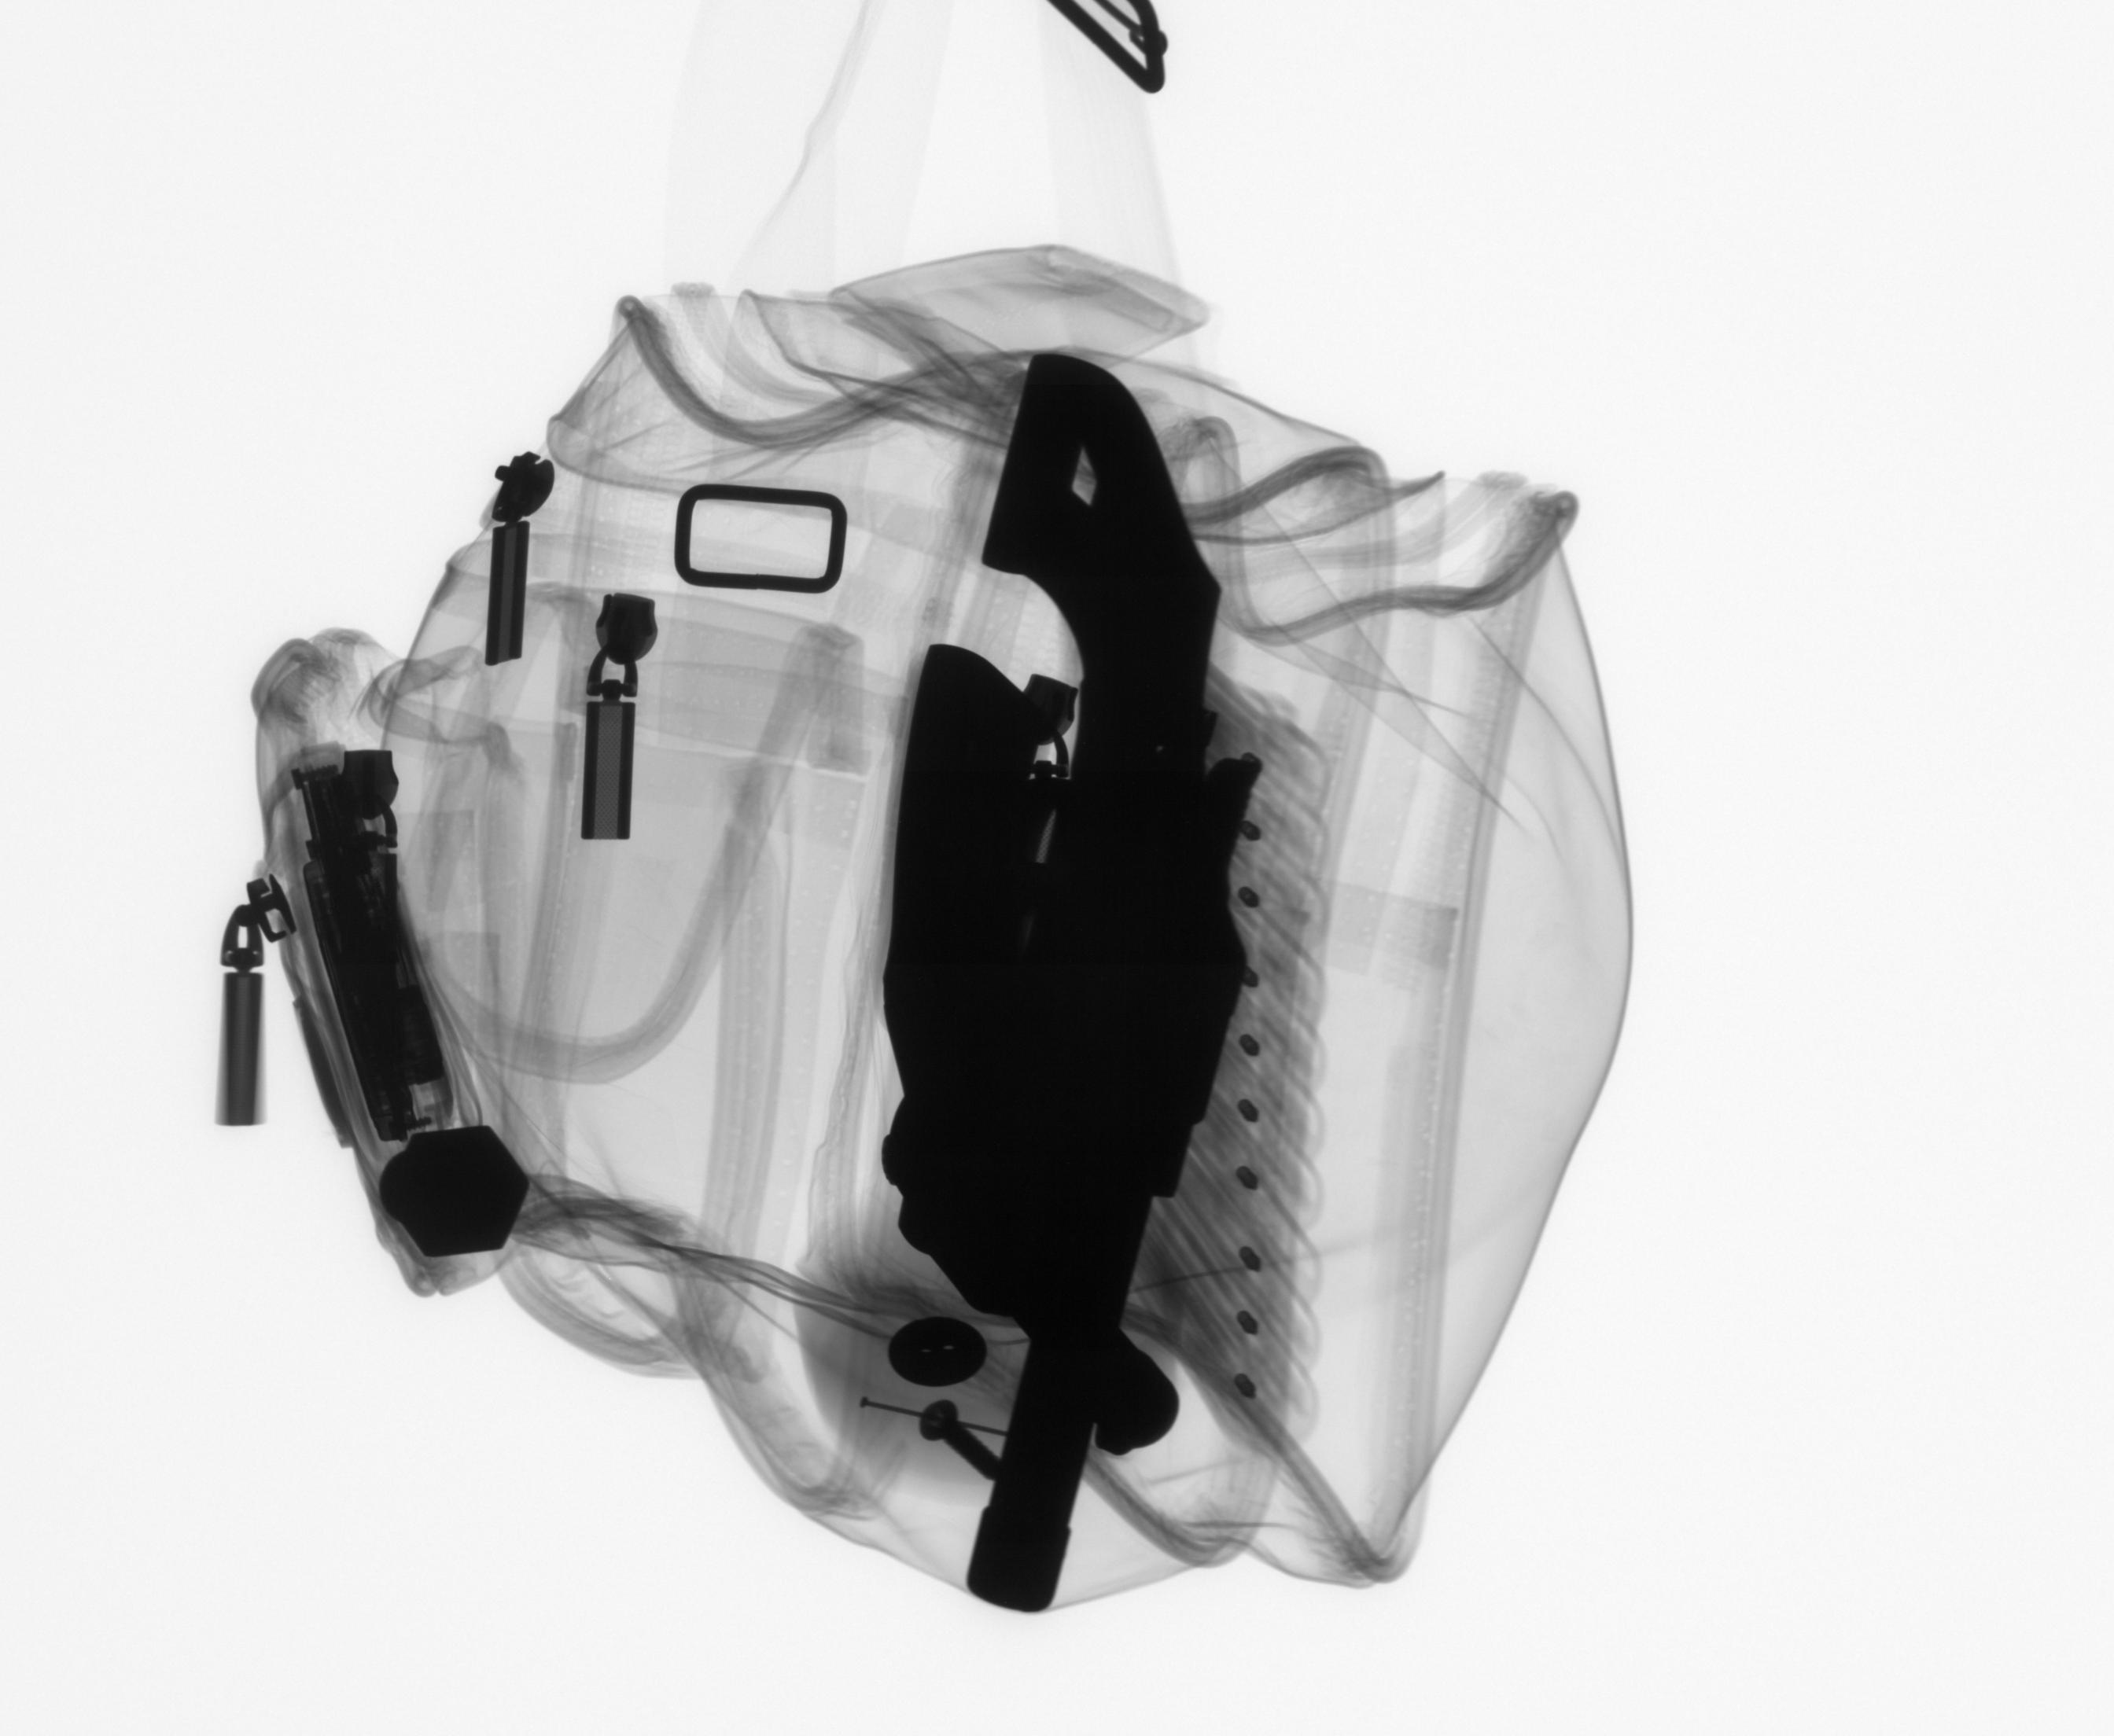Handgun: (922, 335, 1280, 1641)
